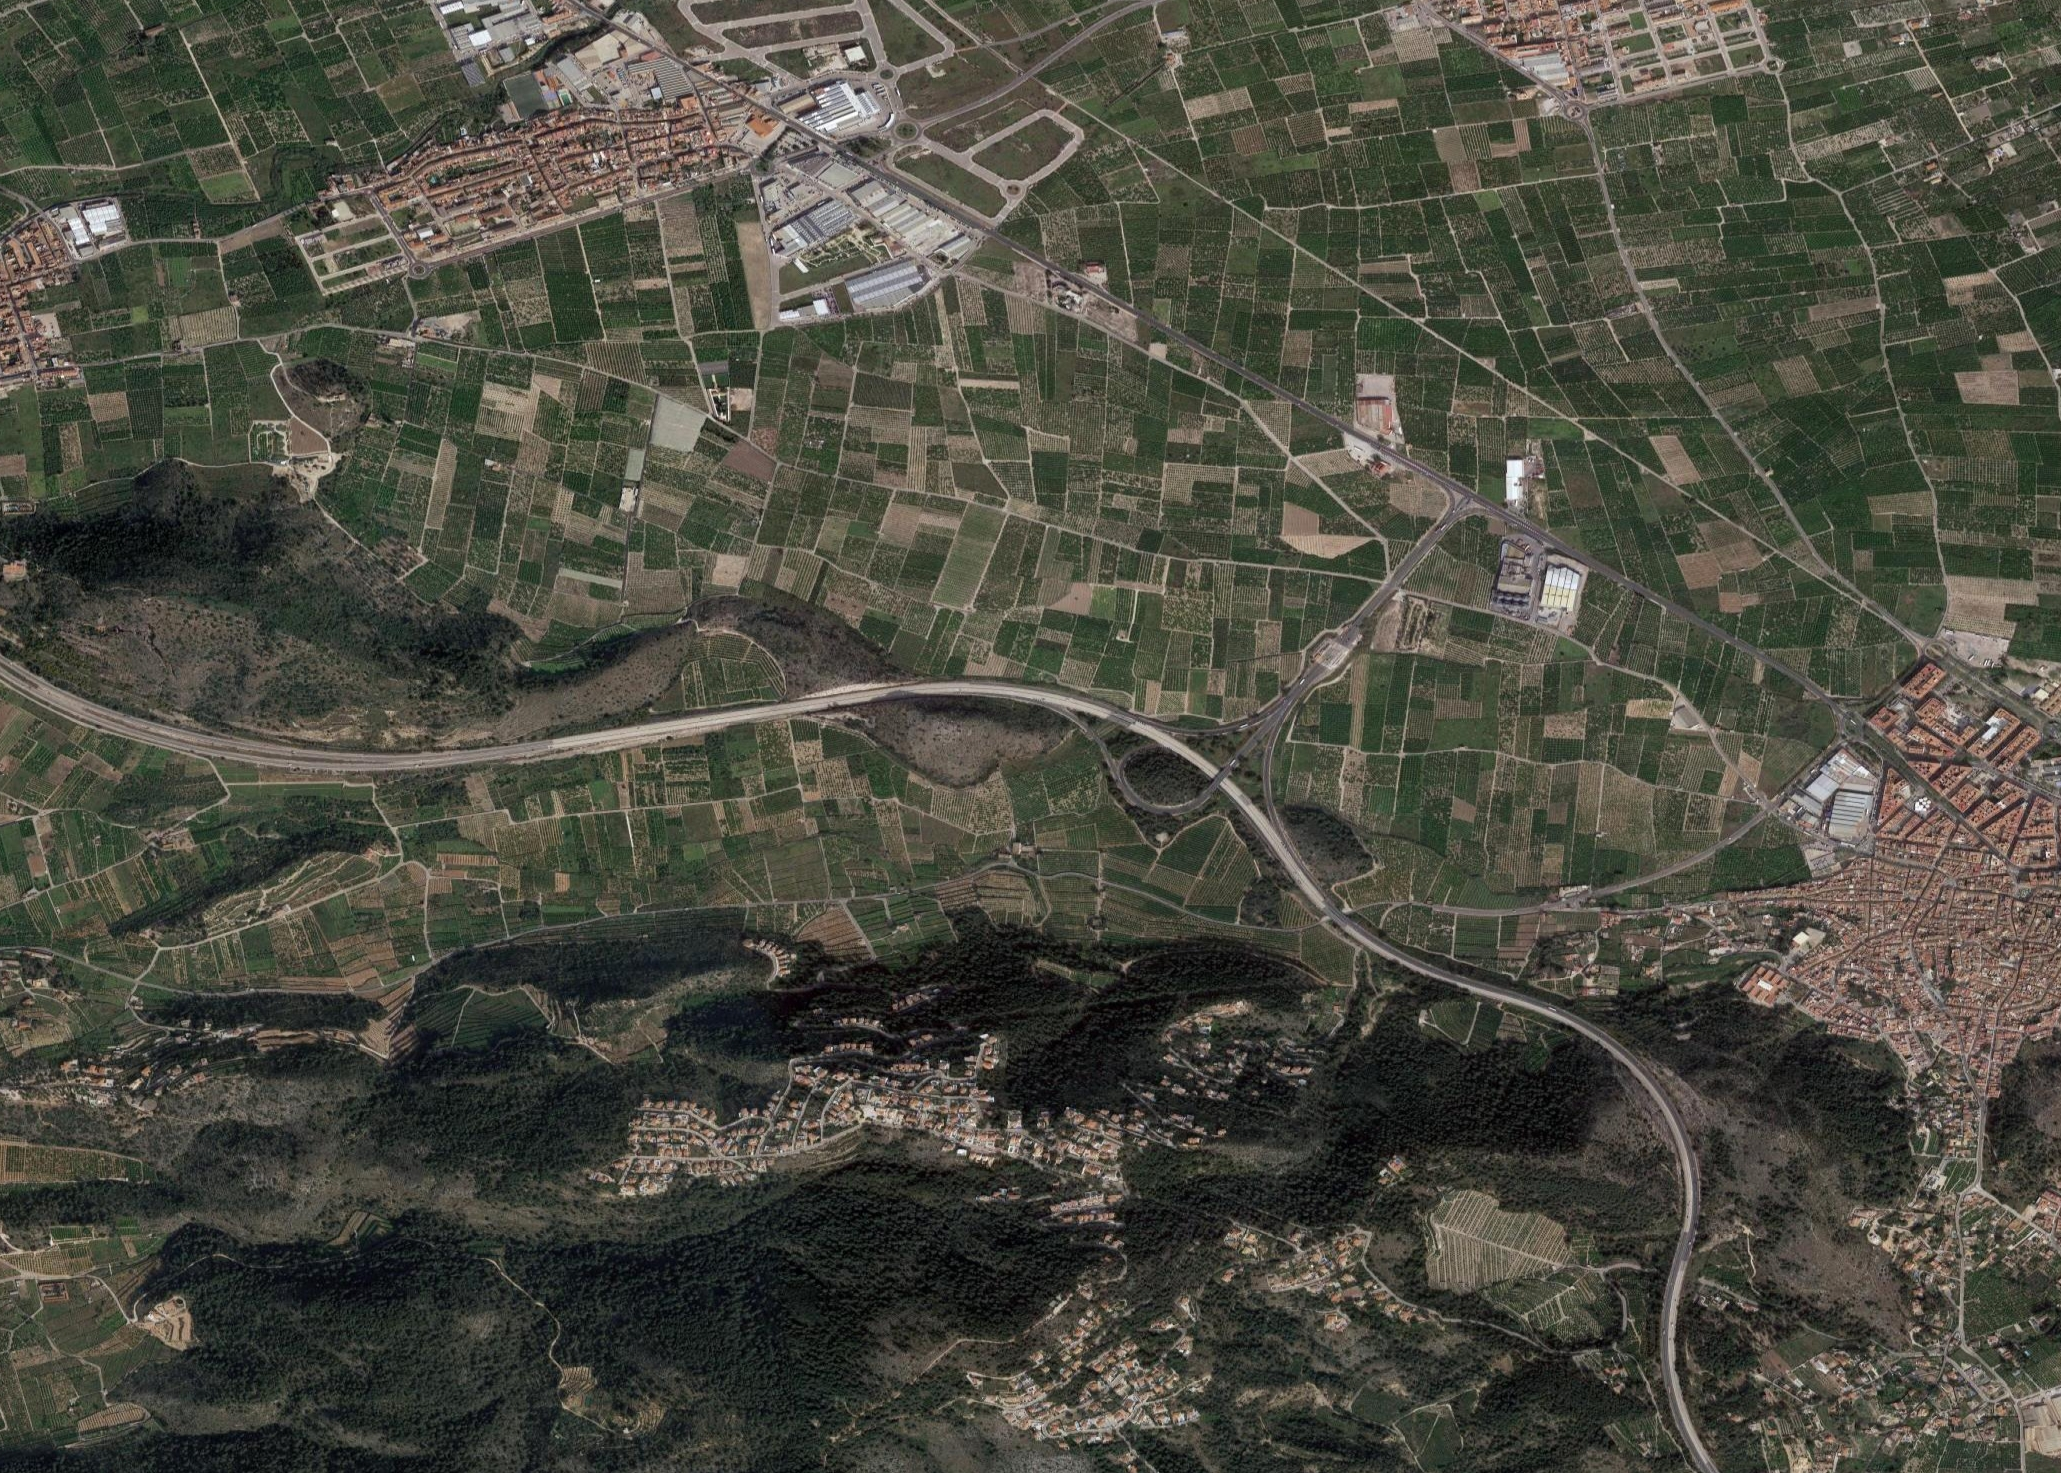industrial: (756, 156, 948, 317)
motorway: (1006, 233, 1240, 383), (1278, 517, 1451, 705), (2, 654, 247, 752), (1465, 497, 1670, 611), (1254, 381, 1458, 494), (1637, 1251, 1739, 1473), (1412, 956, 1635, 1055), (1103, 709, 1290, 827), (1256, 826, 1420, 958), (542, 689, 821, 764), (1615, 1051, 1712, 1253), (1674, 607, 1843, 714), (824, 666, 1109, 729), (242, 735, 539, 792)
